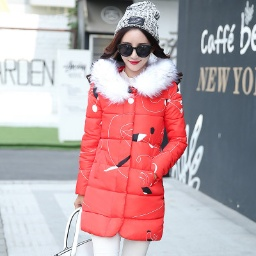face: (109, 27, 161, 74)
